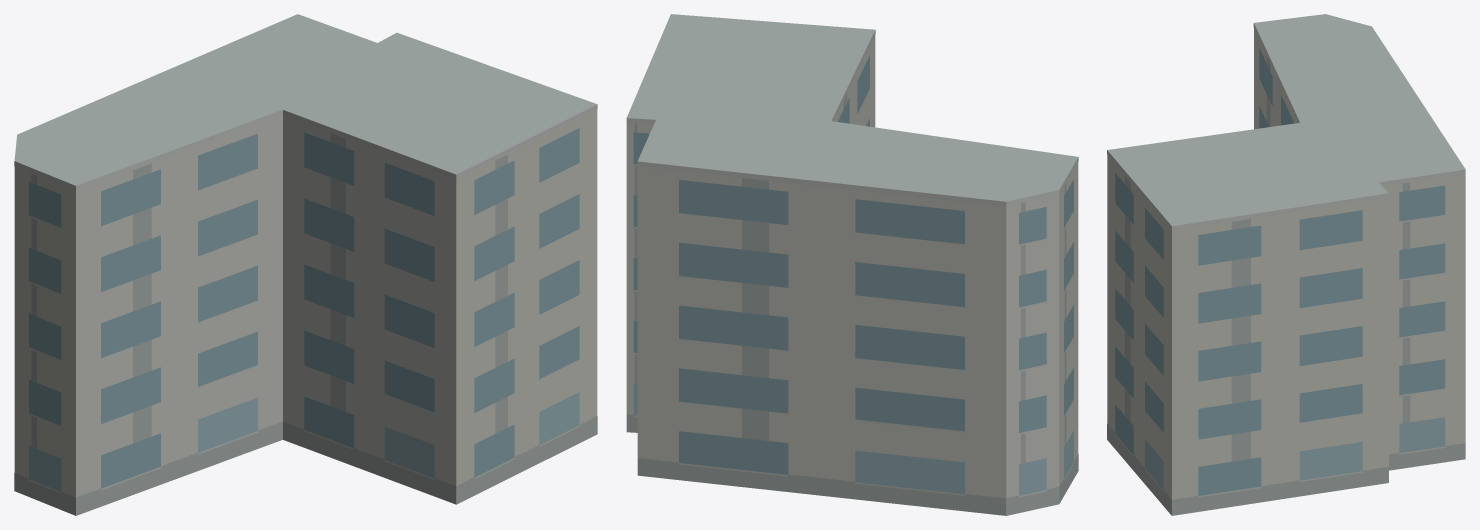
Rendered from survey-upis-32571401.glb.
The picture shows the model from 3 angles, left to right: view 1: azimuth 30°, elevation 25°; view 2: azimuth 150°, elevation 25°; view 3: azimuth 270°, elevation 25°; orthographic projection. The views are drawn at different scales.
Parts seen in each view (by area): view 1: survey-upis-32571401.tmp; view 2: survey-upis-32571401.tmp; view 3: survey-upis-32571401.tmp.
Boxes of the visible parts, x1,y1,x2,y2 form: survey-upis-32571401.tmp: (14,14,597,515); survey-upis-32571401.tmp: (626,14,1078,515); survey-upis-32571401.tmp: (1107,14,1465,515).
Size of the model in its own units: 23.42 by 14.9 by 16.73.
